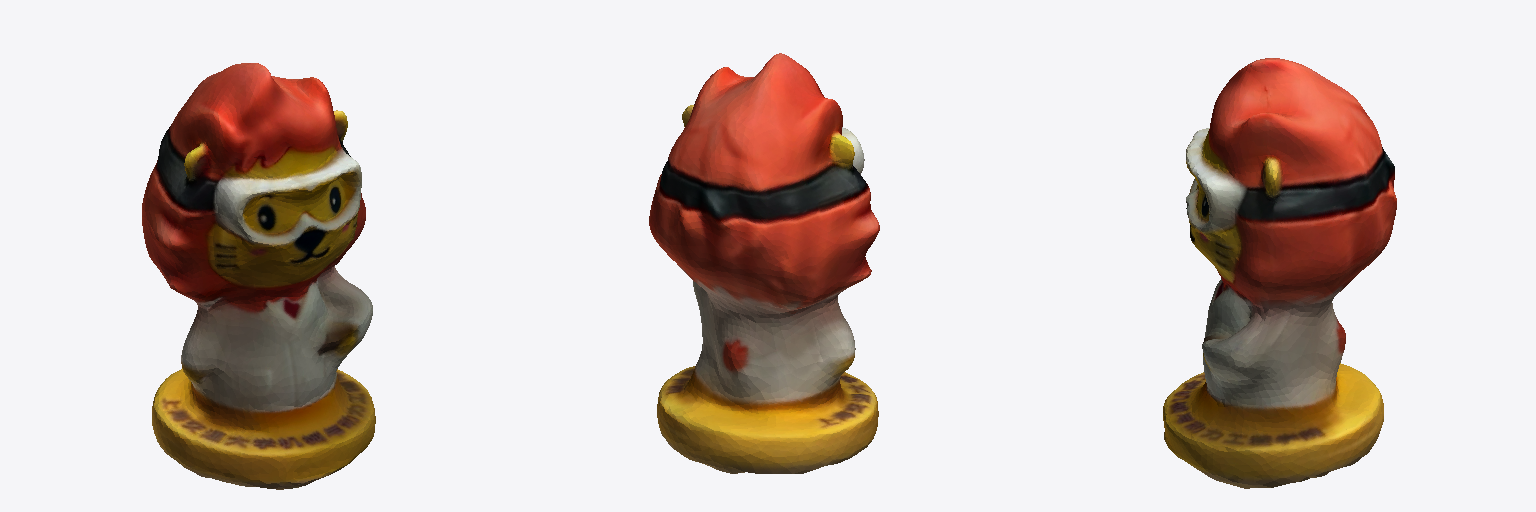
The picture shows the model from 3 angles: view 1: azimuth 30°, elevation 25°; view 2: azimuth 150°, elevation 25°; view 3: azimuth 270°, elevation 25°; orthographic projection.
Bounding box in the file's own units: 0.0416 × 0.0766 × 0.0416.
Materials: 1 (1 with a texture image).